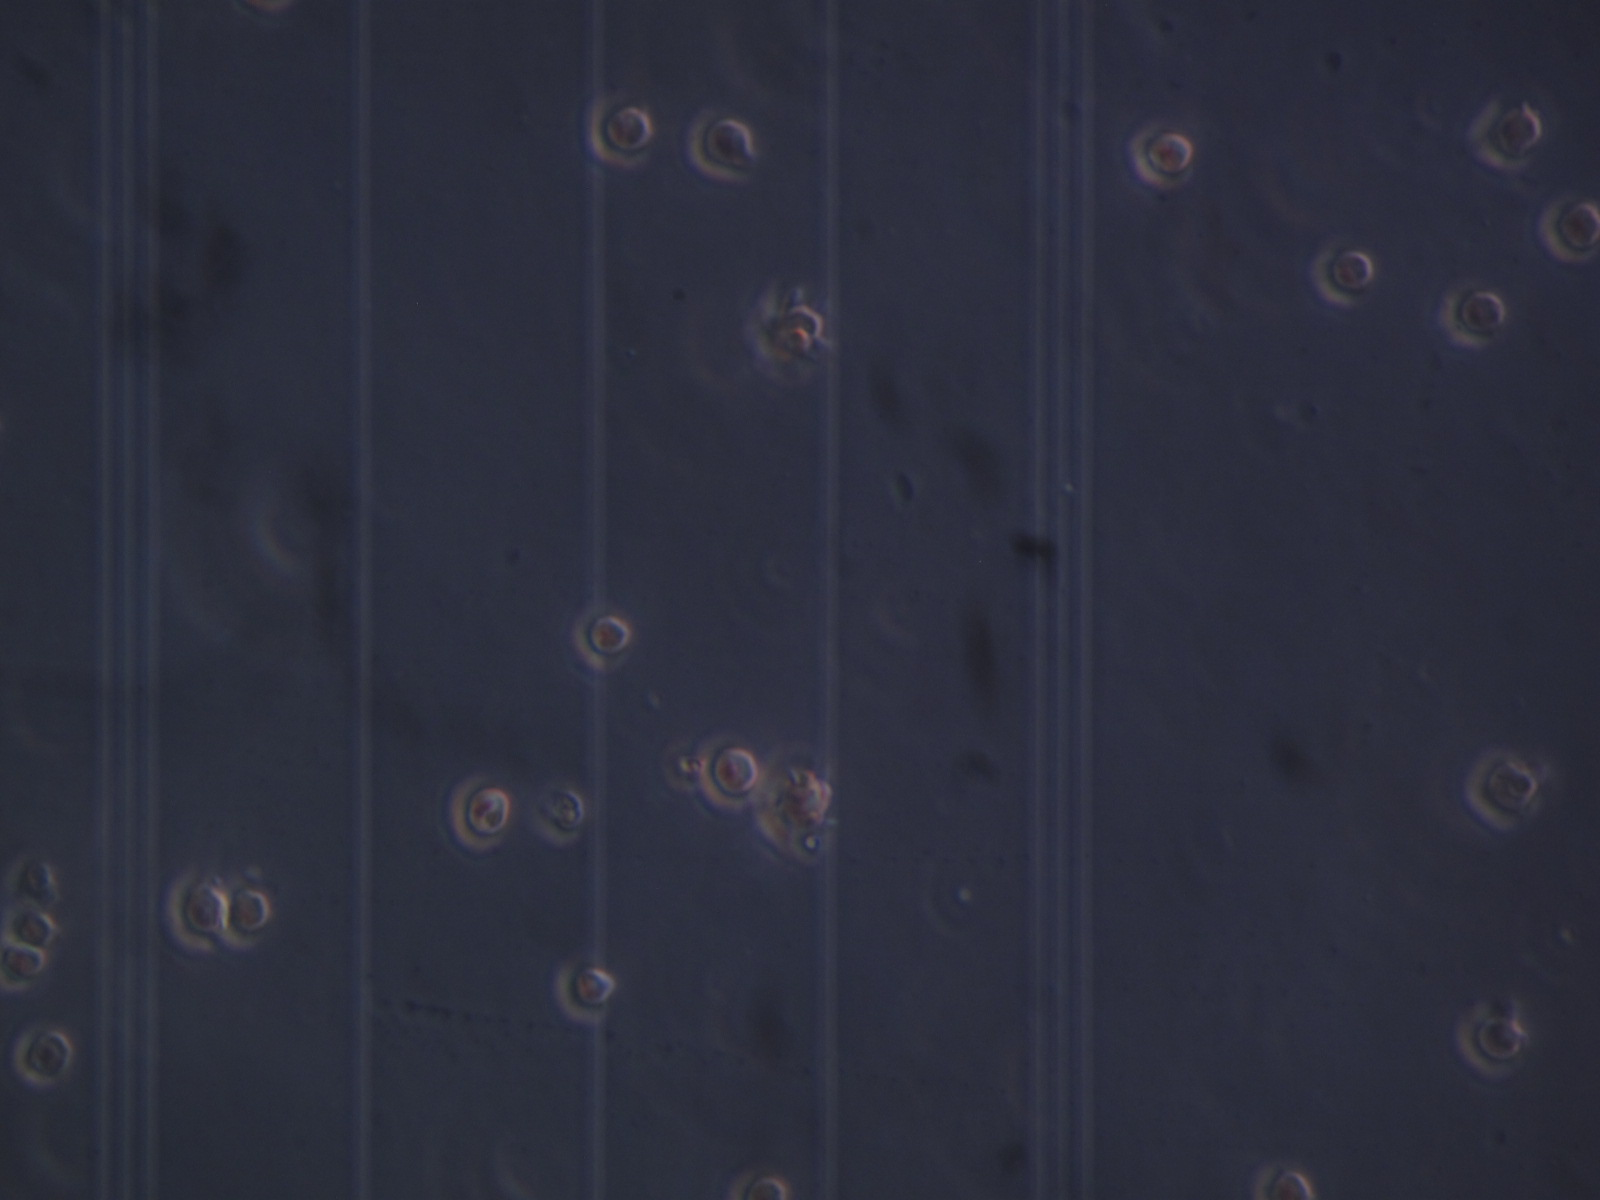hemo: (757, 736, 831, 857), (745, 281, 839, 366), (1450, 1000, 1533, 1083), (1463, 751, 1538, 837), (587, 89, 656, 171), (1471, 97, 1545, 171), (690, 108, 762, 183), (168, 868, 231, 952), (449, 774, 510, 852), (1540, 190, 1600, 267), (1131, 122, 1196, 190), (1439, 284, 1506, 348), (569, 604, 632, 672), (15, 1018, 73, 1088), (700, 740, 758, 809), (1311, 241, 1373, 304), (558, 964, 616, 1024), (220, 884, 268, 948), (534, 787, 587, 845), (1, 903, 55, 950), (1, 937, 48, 988), (1254, 1166, 1315, 1200), (724, 1172, 790, 1200)
